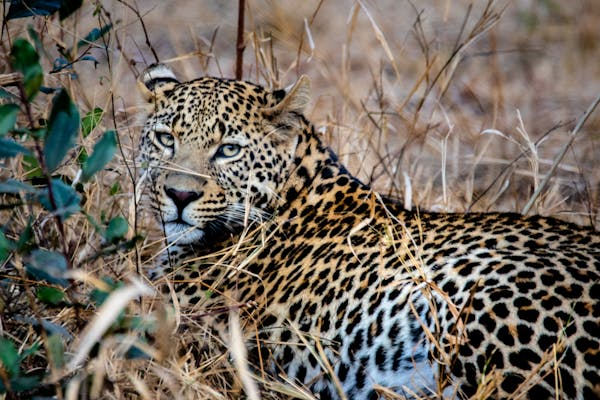Leopard: (112, 62, 600, 400)
